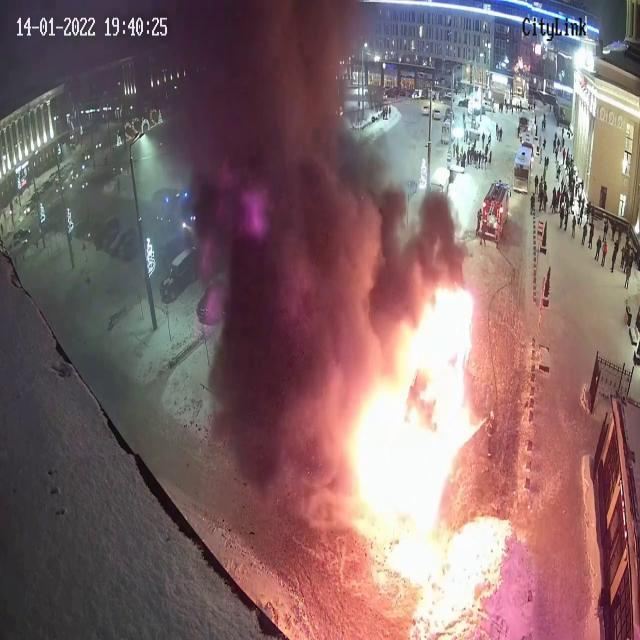Fire: (328, 277, 514, 630)
Smoke: (157, 0, 399, 476)
